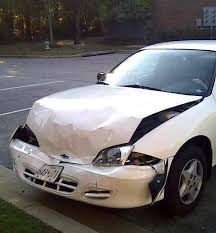Broken-glass: (10, 123, 45, 150)
Dent: (24, 102, 131, 173)
